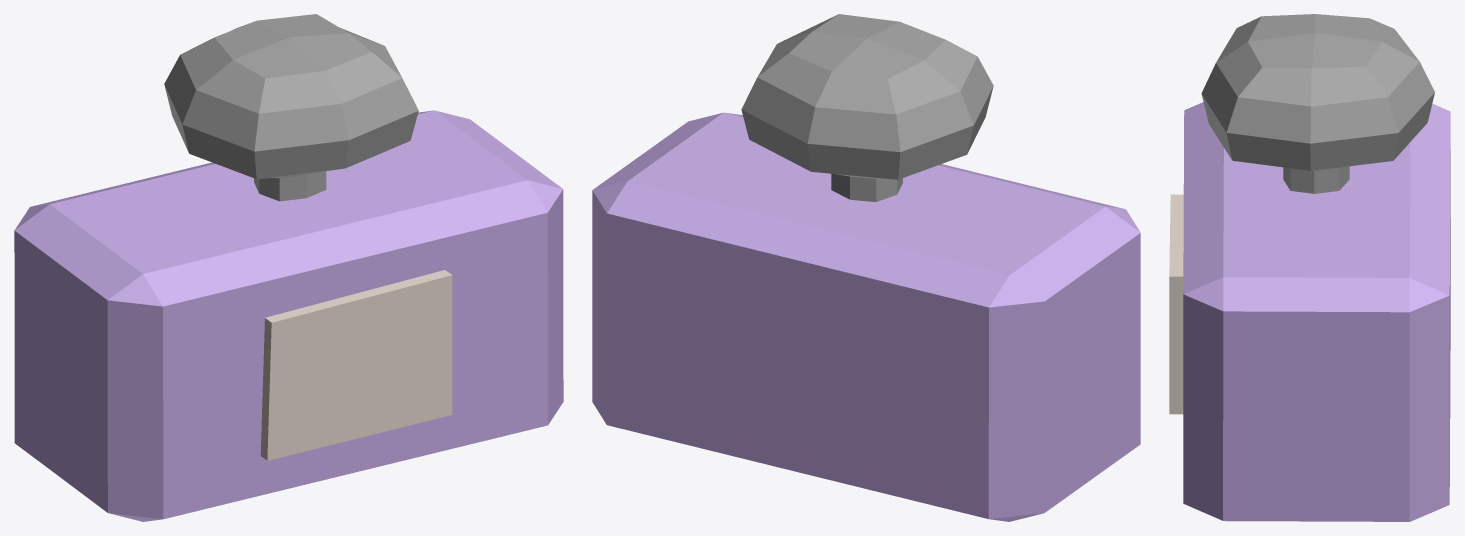
Rendered from Perfume_4.fbx.
The picture shows the model from 3 angles, left to right: view 1: azimuth 30°, elevation 25°; view 2: azimuth 150°, elevation 25°; view 3: azimuth 270°, elevation 25°; orthographic projection.
Visible parts, largest first — view 1: Perfume_4; view 2: Perfume_4; view 3: Perfume_4.
Boxes of the visible parts, x1=… form: Perfume_4: x1=14, y1=14, x2=563, y2=521; Perfume_4: x1=592, y1=14, x2=1140, y2=521; Perfume_4: x1=1169, y1=14, x2=1450, y2=521.
Size of the model in its own units: 10.02 by 5.43 by 8.46.
